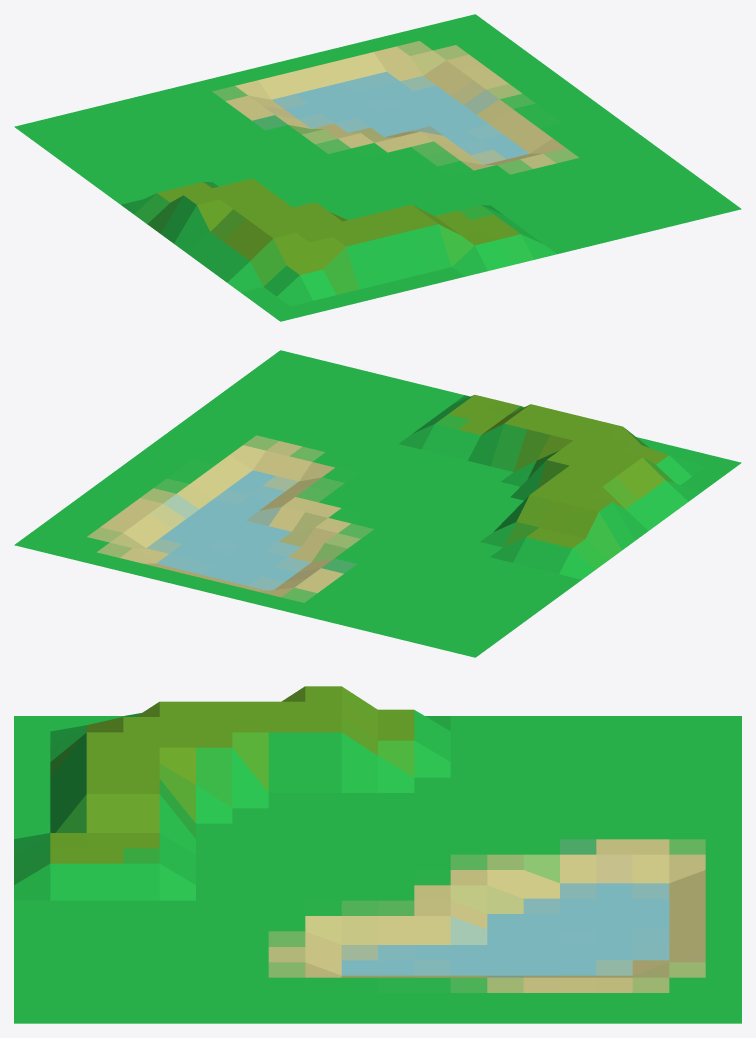
3 views of the same model, one above another, from view 1: azimuth 30°, elevation 25°; view 2: azimuth 150°, elevation 25°; view 3: azimuth 270°, elevation 25° (orthographic). The views are drawn at different scales.
Parts seen in each view (by area): view 1: Plane; view 2: Plane; view 3: Plane.
Part boxes in pixels (bbox=[...]): Plane: bbox=[14, 14, 741, 321]; Plane: bbox=[14, 350, 741, 657]; Plane: bbox=[14, 686, 741, 1023].
Bounding box in the file's own units: 20 × 1.78 × 20.
1 material, 1 textured.
